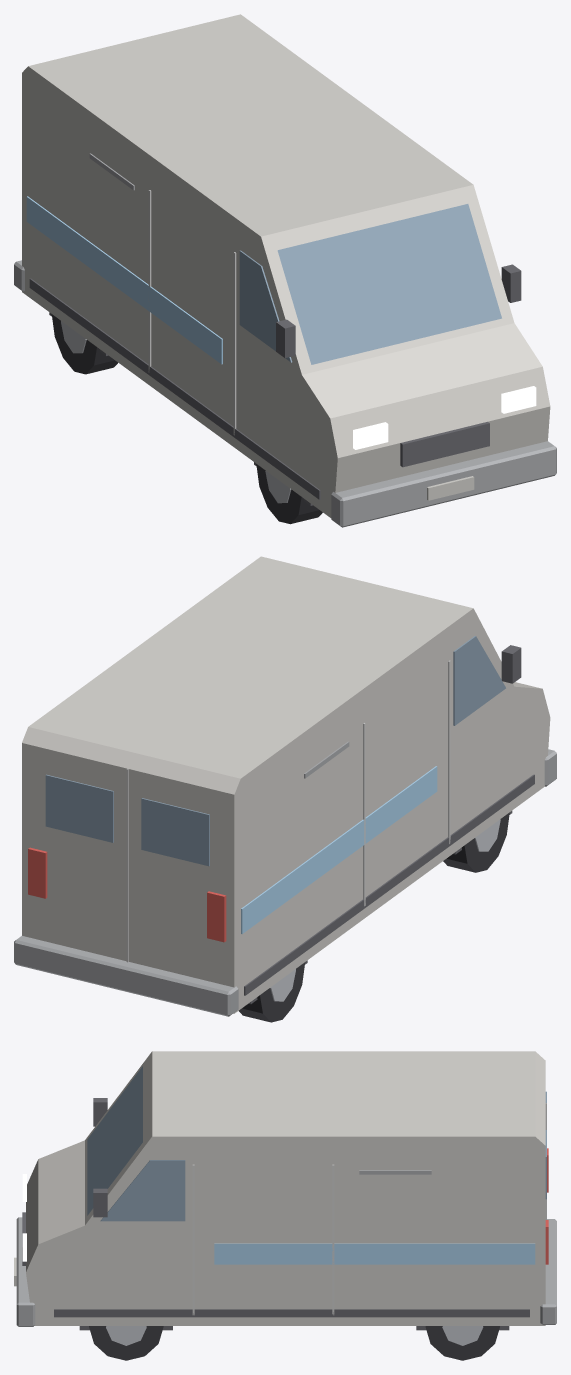
The model's file is prop_van_01.glb.
3 renders of one model, top to bottom at view 1: azimuth 30°, elevation 25°; view 2: azimuth 150°, elevation 25°; view 3: azimuth 270°, elevation 25°, orthographic. The views are drawn at different scales.
Parts seen in each view (by area): view 1: prop_van_01_body; view 2: prop_van_01_body; view 3: prop_van_01_body.
Boxes of the visible parts, x1,y1,x2,y2 form: prop_van_01_body: (14,14,556,527); prop_van_01_body: (14,556,556,1022); prop_van_01_body: (14,1051,556,1360).
Bounding box in the file's own units: 2.17 × 2.4 × 5.24.
